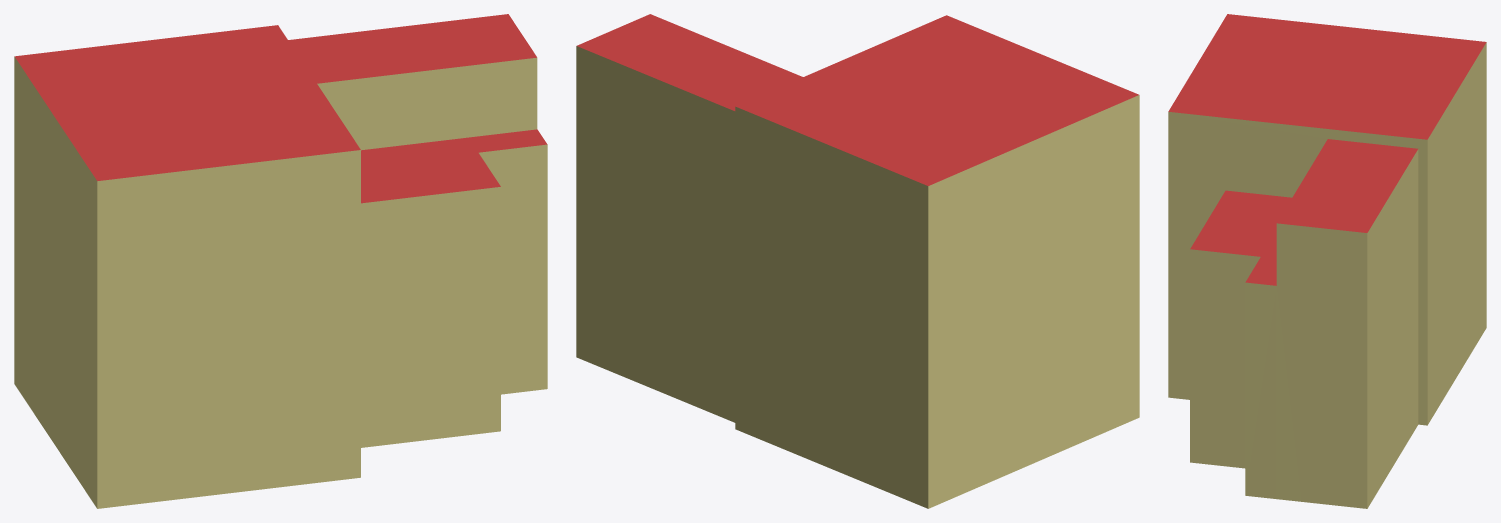
3 views of the same model, side by side, from view 1: azimuth 30°, elevation 25°; view 2: azimuth 150°, elevation 25°; view 3: azimuth 270°, elevation 25° (orthographic). The views are drawn at different scales.
Bounding box in the file's own units: 19.83 × 12.76 × 12.64.
